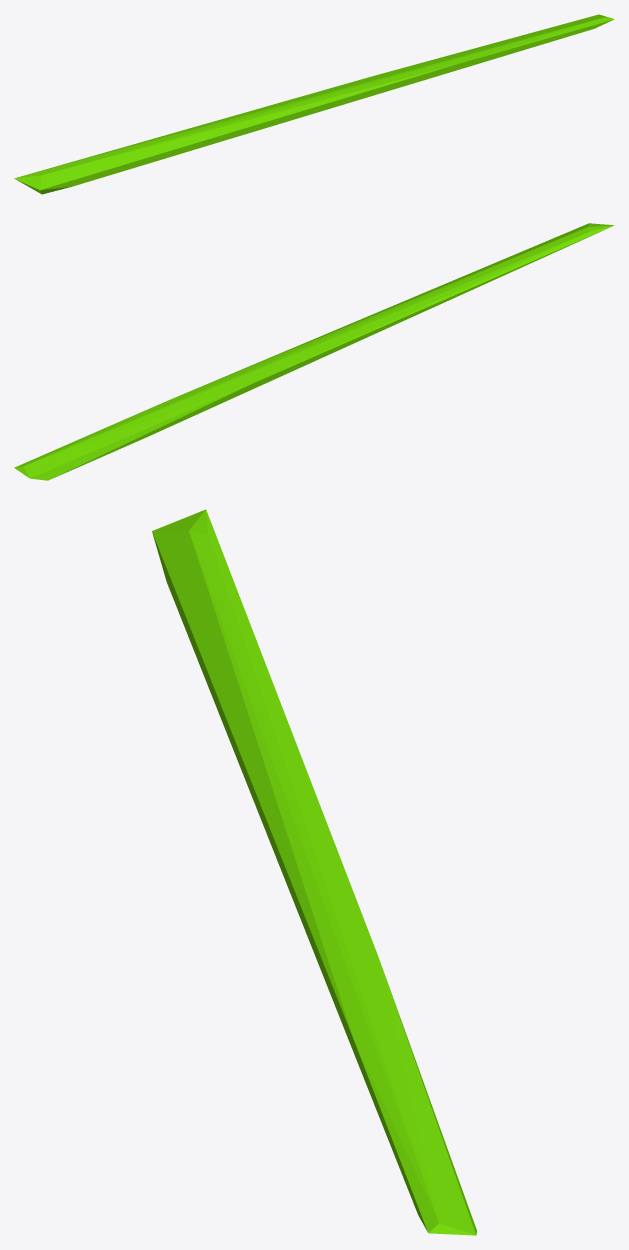
Rendered from arm-L4_convex_piece_015.obj.
3 views of the same model, one above another, from view 1: azimuth 30°, elevation 25°; view 2: azimuth 210°, elevation 25°; view 3: azimuth 270°, elevation 25° (orthographic). The views are drawn at different scales.
Size of the model in its own units: 0.2524 by 0.0189 by 0.0541.
